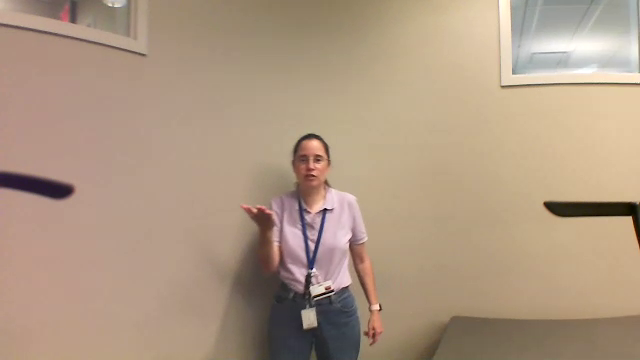land: (228, 192, 282, 238)
